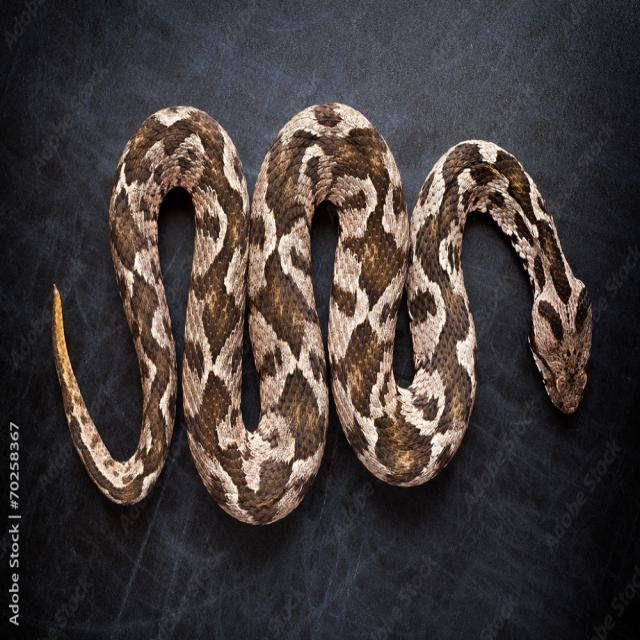Snake: (42, 89, 608, 542)
